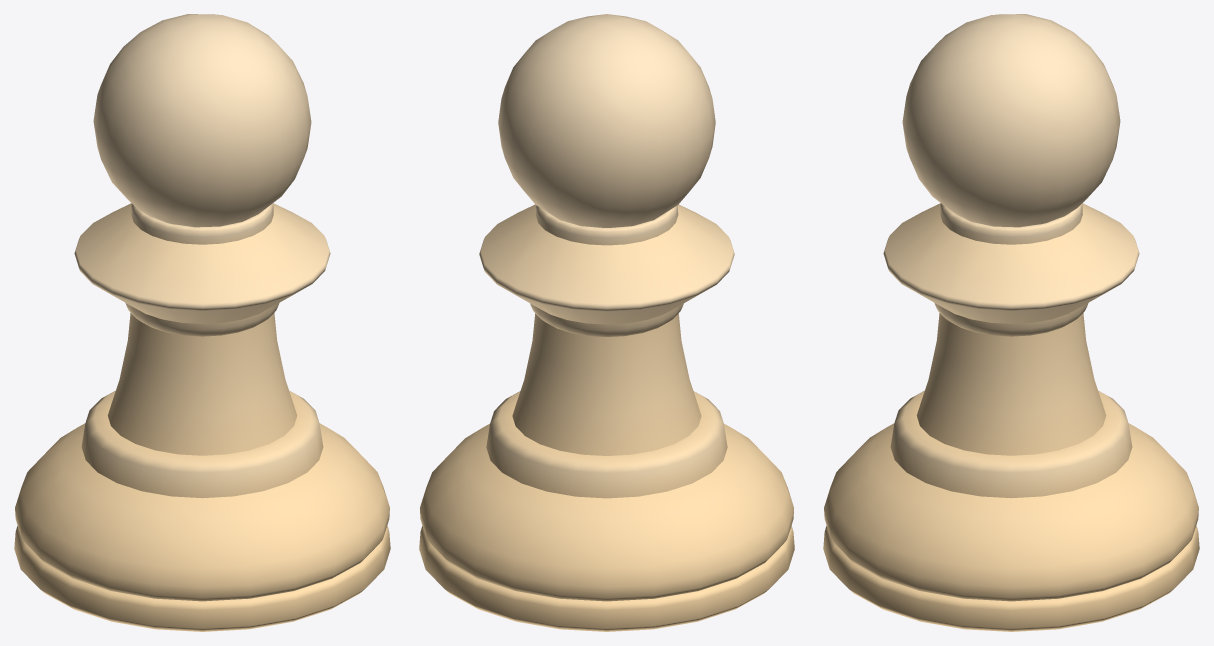
Rendered from Chess_White_Pawn_01.fbx.
3 renders of one model, left to right at view 1: azimuth 30°, elevation 25°; view 2: azimuth 150°, elevation 25°; view 3: azimuth 270°, elevation 25°, orthographic.
Parts seen in each view (by area): view 1: Chess_White_Pawn_01; view 2: Chess_White_Pawn_01; view 3: Chess_White_Pawn_01.
Boxes of the visible parts, x1=… form: Chess_White_Pawn_01: x1=14, y1=14, x2=390, y2=631; Chess_White_Pawn_01: x1=419, y1=14, x2=794, y2=631; Chess_White_Pawn_01: x1=823, y1=14, x2=1199, y2=631.
Size of the model in its own units: 2.87 by 4.54 by 2.88.
